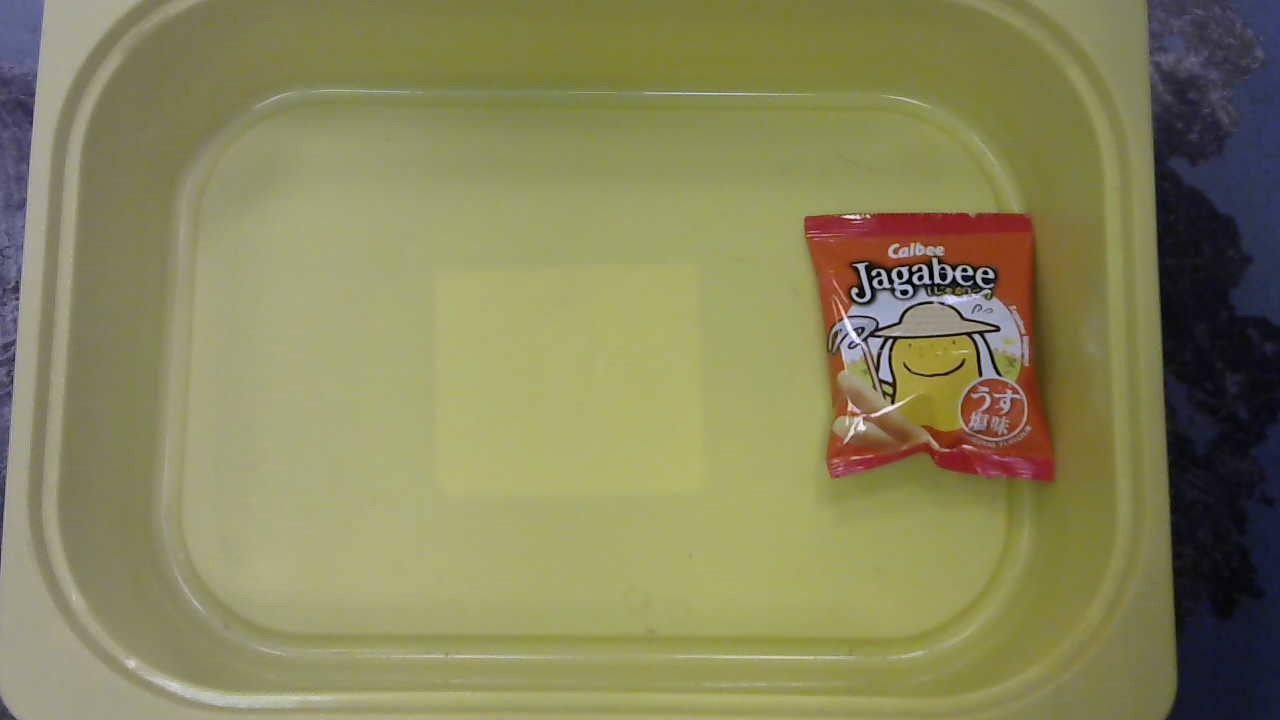JagabeeFarmer: (798, 206, 1064, 488)
